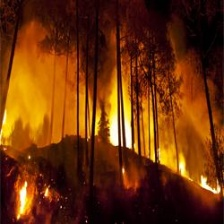fire: (96, 111, 224, 198), (14, 179, 38, 220), (1, 101, 13, 142)
